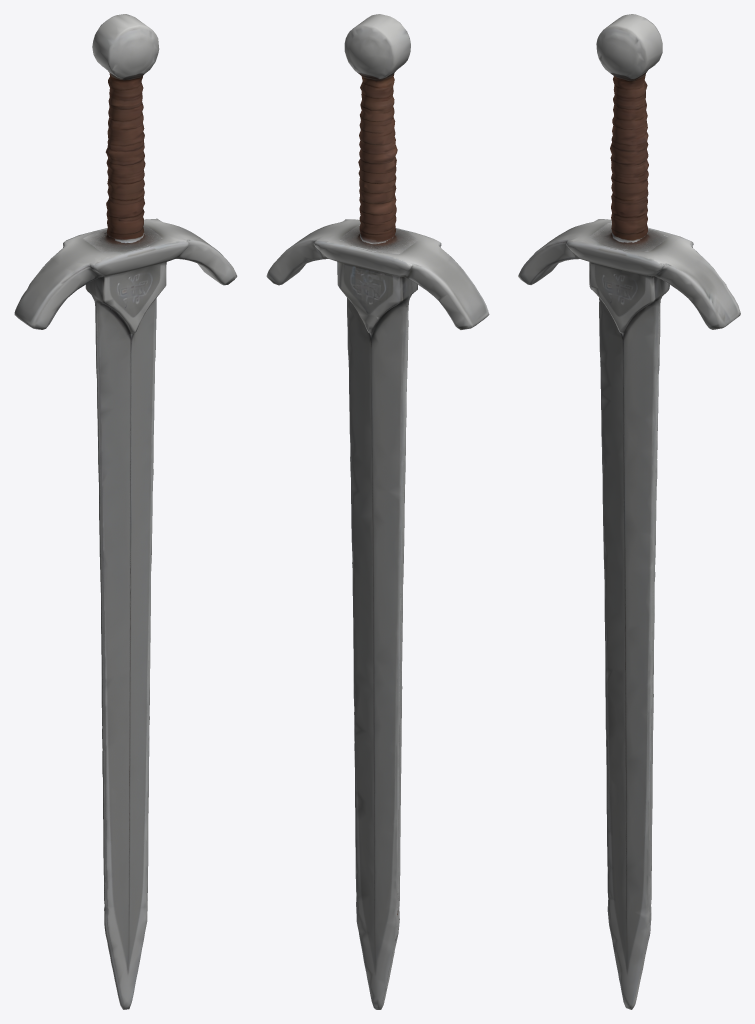
The model's file is sword.glb.
3 views of the same model, side by side, from view 1: azimuth 30°, elevation 25°; view 2: azimuth 150°, elevation 25°; view 3: azimuth 330°, elevation 25° (orthographic).
Size of the model in its own units: 0.4182 by 1.91 by 0.1176.
Materials: 1 (1 with a texture image).
